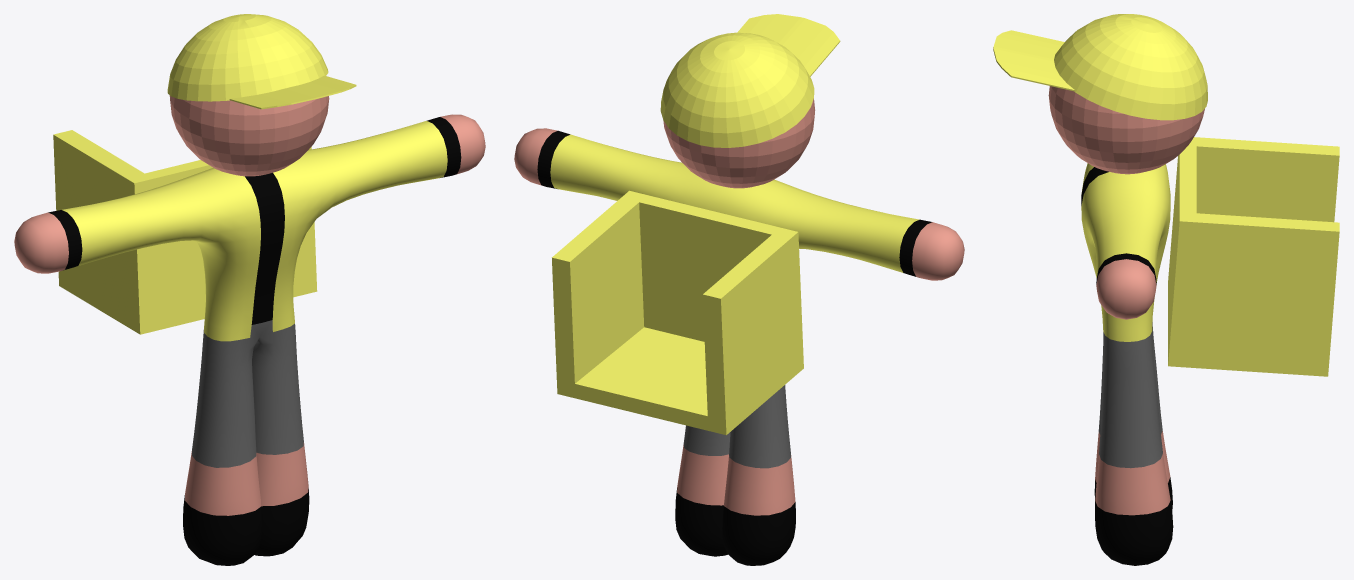
The model's file is Stickman.fbx.
The picture shows the model from 3 angles, left to right: view 1: azimuth 30°, elevation 25°; view 2: azimuth 150°, elevation 25°; view 3: azimuth 270°, elevation 25°; orthographic projection. The views are drawn at different scales.
Parts seen in each view (by area): view 1: Stickman; view 2: Stickman; view 3: Stickman.
Part boxes in pixels (x1=…): Stickman: x1=14, y1=14, x2=485, y2=565; Stickman: x1=514, y1=14, x2=964, y2=565; Stickman: x1=993, y1=14, x2=1339, y2=565.
Size of the model in its own units: 188 by 209 by 124.
